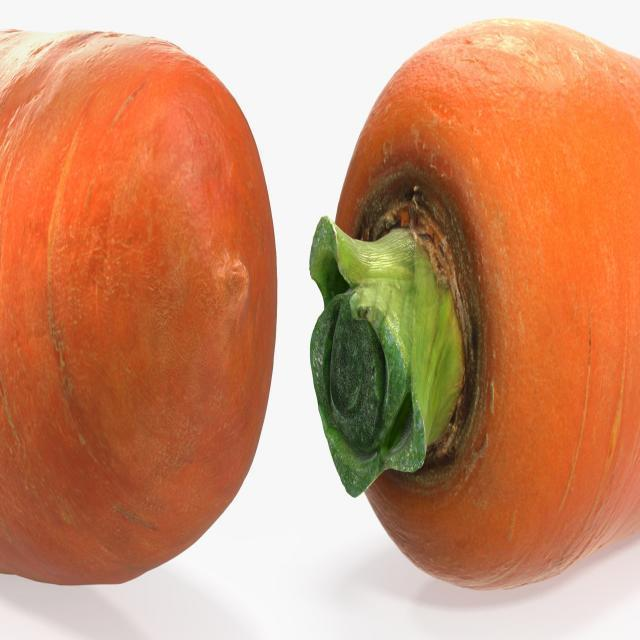carrot: (306, 17, 640, 584)
